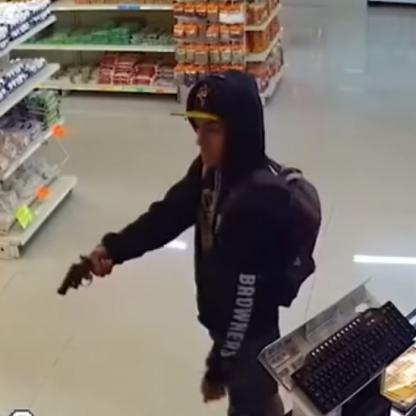criminal: (55, 70, 323, 416)
weapon: (55, 252, 100, 298)
